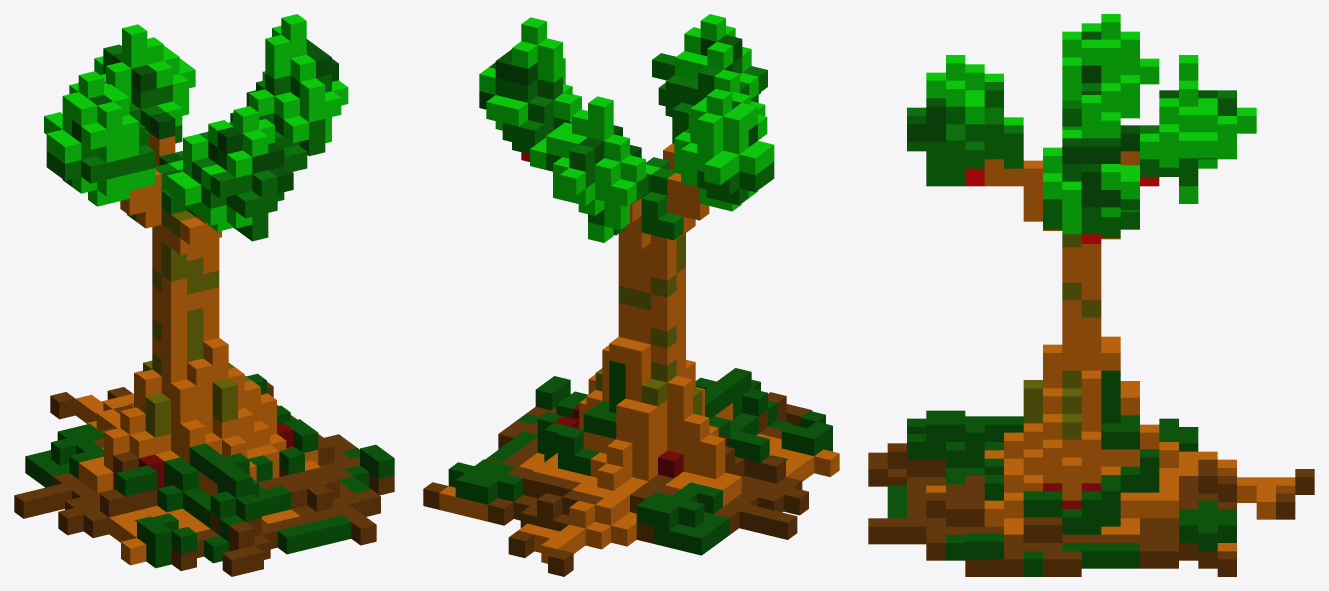
Rendered from Miguel_Angel_Cartagena_Herrera_fase_3.obj.
3 views of the same model, side by side, from view 1: azimuth 30°, elevation 25°; view 2: azimuth 150°, elevation 25°; view 3: azimuth 270°, elevation 25° (orthographic). The views are drawn at different scales.
Visible parts, largest first — view 1: Miguel_Angel_Cartagena_Herrera_fase_3; view 2: Miguel_Angel_Cartagena_Herrera_fase_3; view 3: Miguel_Angel_Cartagena_Herrera_fase_3.
Part boxes in pixels (<box>): Miguel_Angel_Cartagena_Herrera_fase_3: <box>14,14,394,576</box>; Miguel_Angel_Cartagena_Herrera_fase_3: <box>423,14,839,576</box>; Miguel_Angel_Cartagena_Herrera_fase_3: <box>868,14,1314,576</box>.
Size of the model in its own units: 19 by 26 by 23.
1 material, 1 textured.
